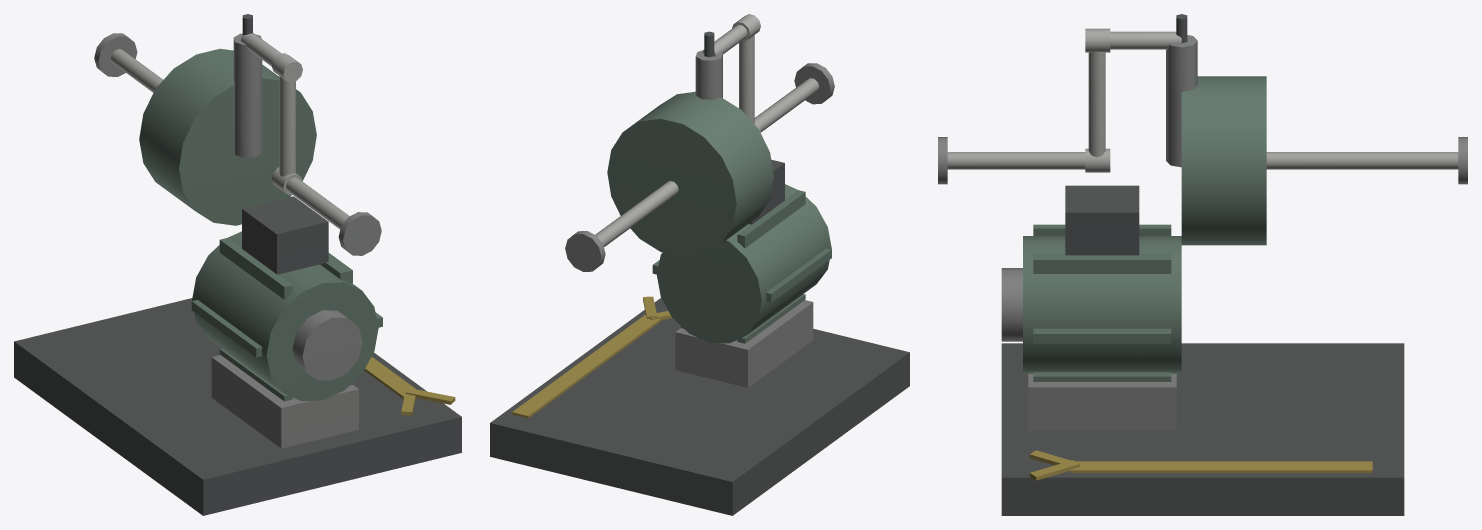
Rendered from flPump_steel.glb.
3 renders of one model, left to right at view 1: azimuth 30°, elevation 25°; view 2: azimuth 150°, elevation 25°; view 3: azimuth 270°, elevation 25°, orthographic. The views are drawn at different scales.
Visible parts, largest first — view 1: flPump_steel; view 2: flPump_steel; view 3: flPump_steel.
Boxes of the visible parts, x1,y1,x2,y2 form: flPump_steel: (14,14,461,515); flPump_steel: (490,14,909,515); flPump_steel: (938,14,1467,515).
Size of the model in its own units: 0.6227 by 0.9 by 1.
